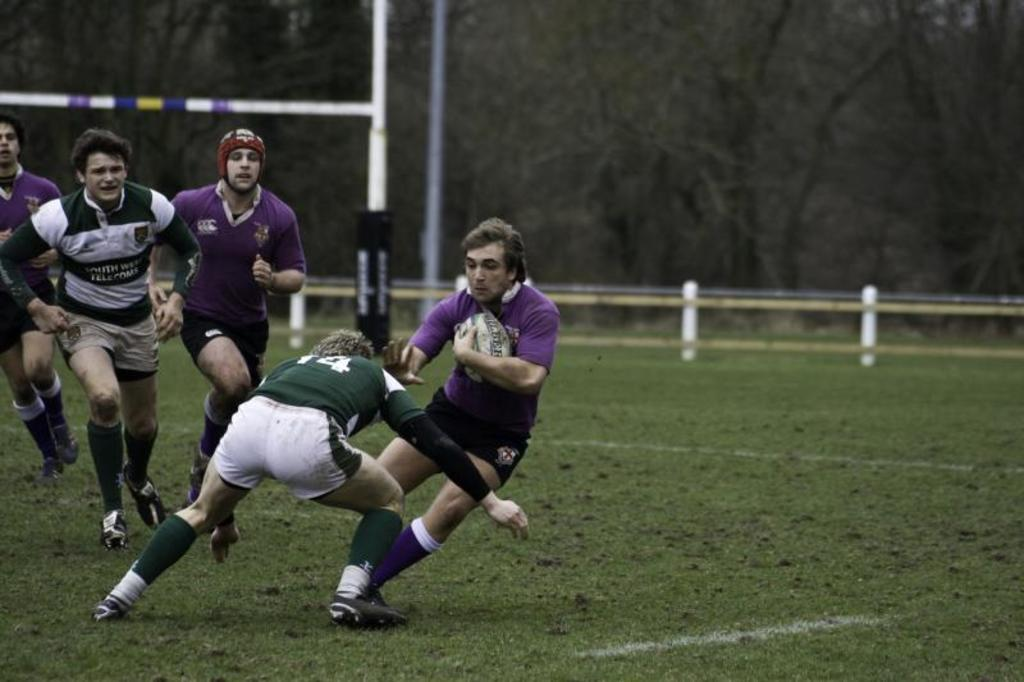Ball: (452, 313, 513, 385)
